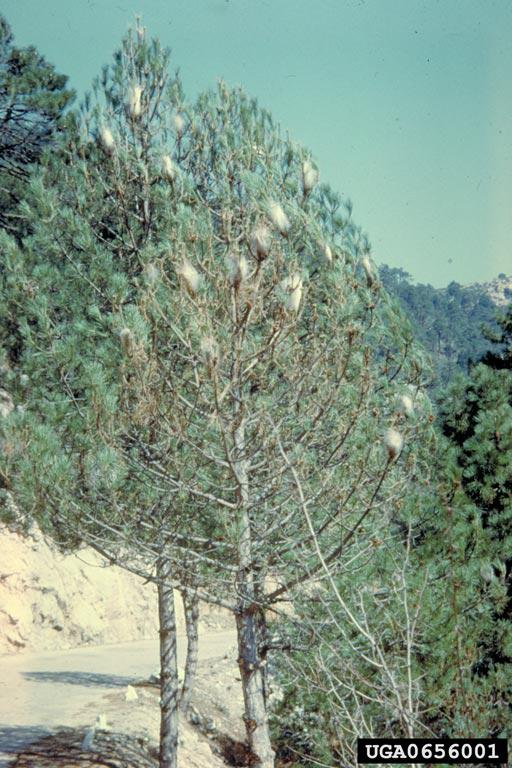thaumatopoea pityocampa jajno gnijezdo: (245, 214, 275, 268), (382, 424, 406, 469), (285, 270, 307, 315), (178, 256, 203, 295), (128, 83, 148, 123), (268, 202, 291, 234), (316, 238, 338, 269), (302, 158, 320, 195), (156, 153, 179, 181), (397, 388, 417, 418), (170, 107, 189, 137), (98, 127, 117, 153), (362, 258, 374, 282)
